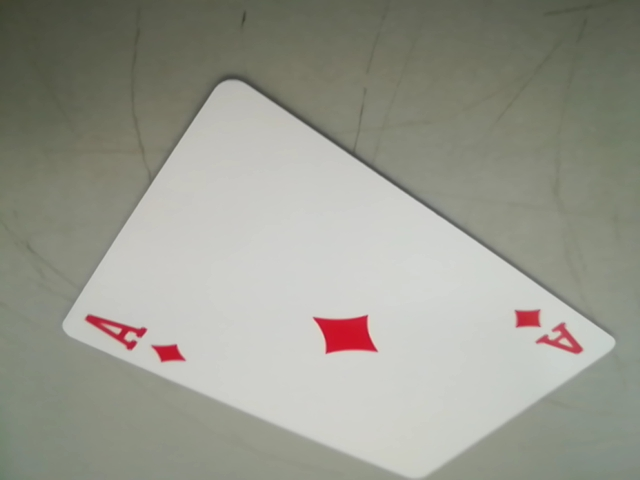fk a: (71, 311, 195, 364), (517, 300, 591, 364)
